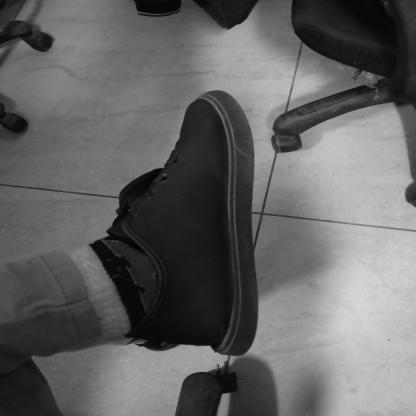ankle: (163, 279, 171, 284)
heel: (203, 340, 210, 345)
left_foot: (125, 91, 260, 356)
pinky: (185, 124, 188, 126)
toe: (215, 118, 220, 121)
